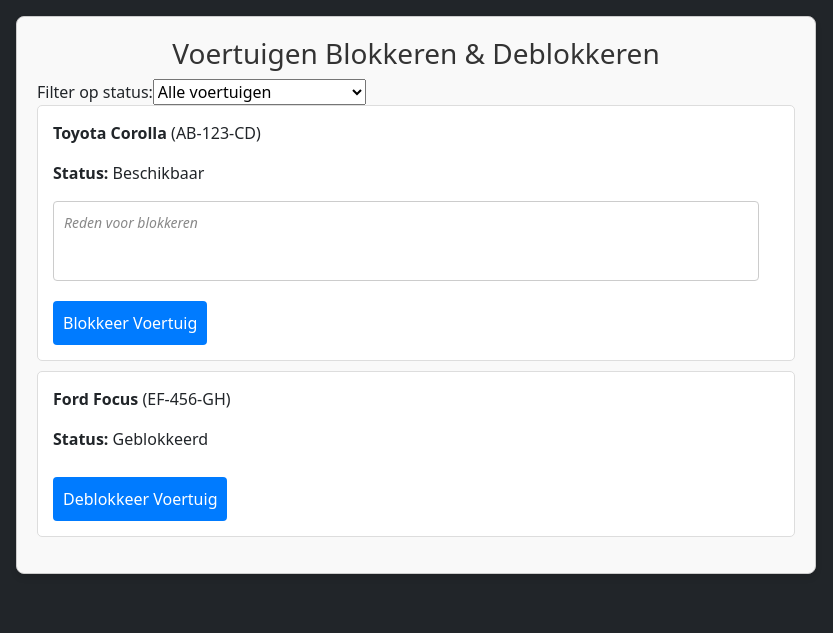
VehicleBeheerPage - Voertuigen Blokkeren & Deblokkeren › Moet een foutmelding geven bij het blokkeren zonder reden
The width and height of the screenshot is (833, 633).
Click the button "Blokkeer Voertuig".
click(130, 323)  # box [53, 301, 207, 345]
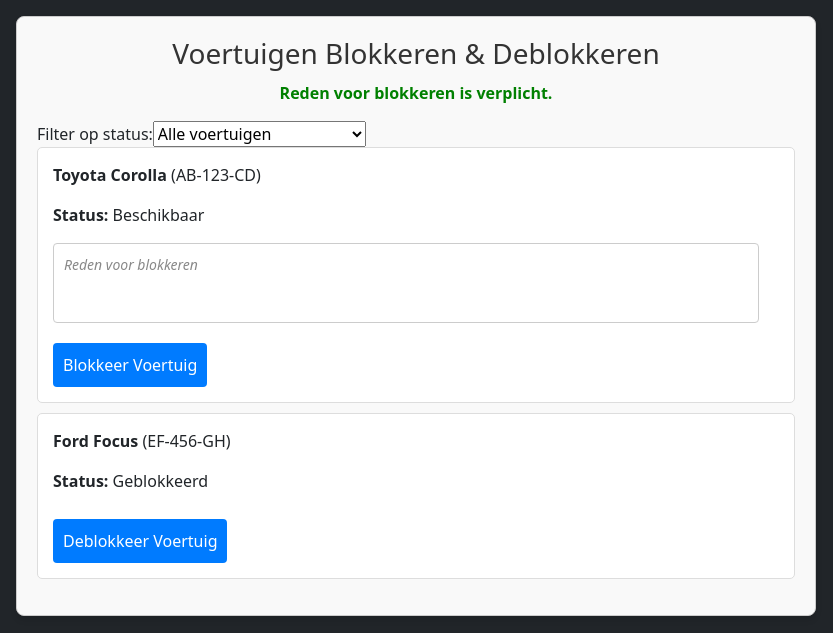
Check: the text "Reden voor blokkeren is verplicht." is shown, box [280, 82, 552, 104]
